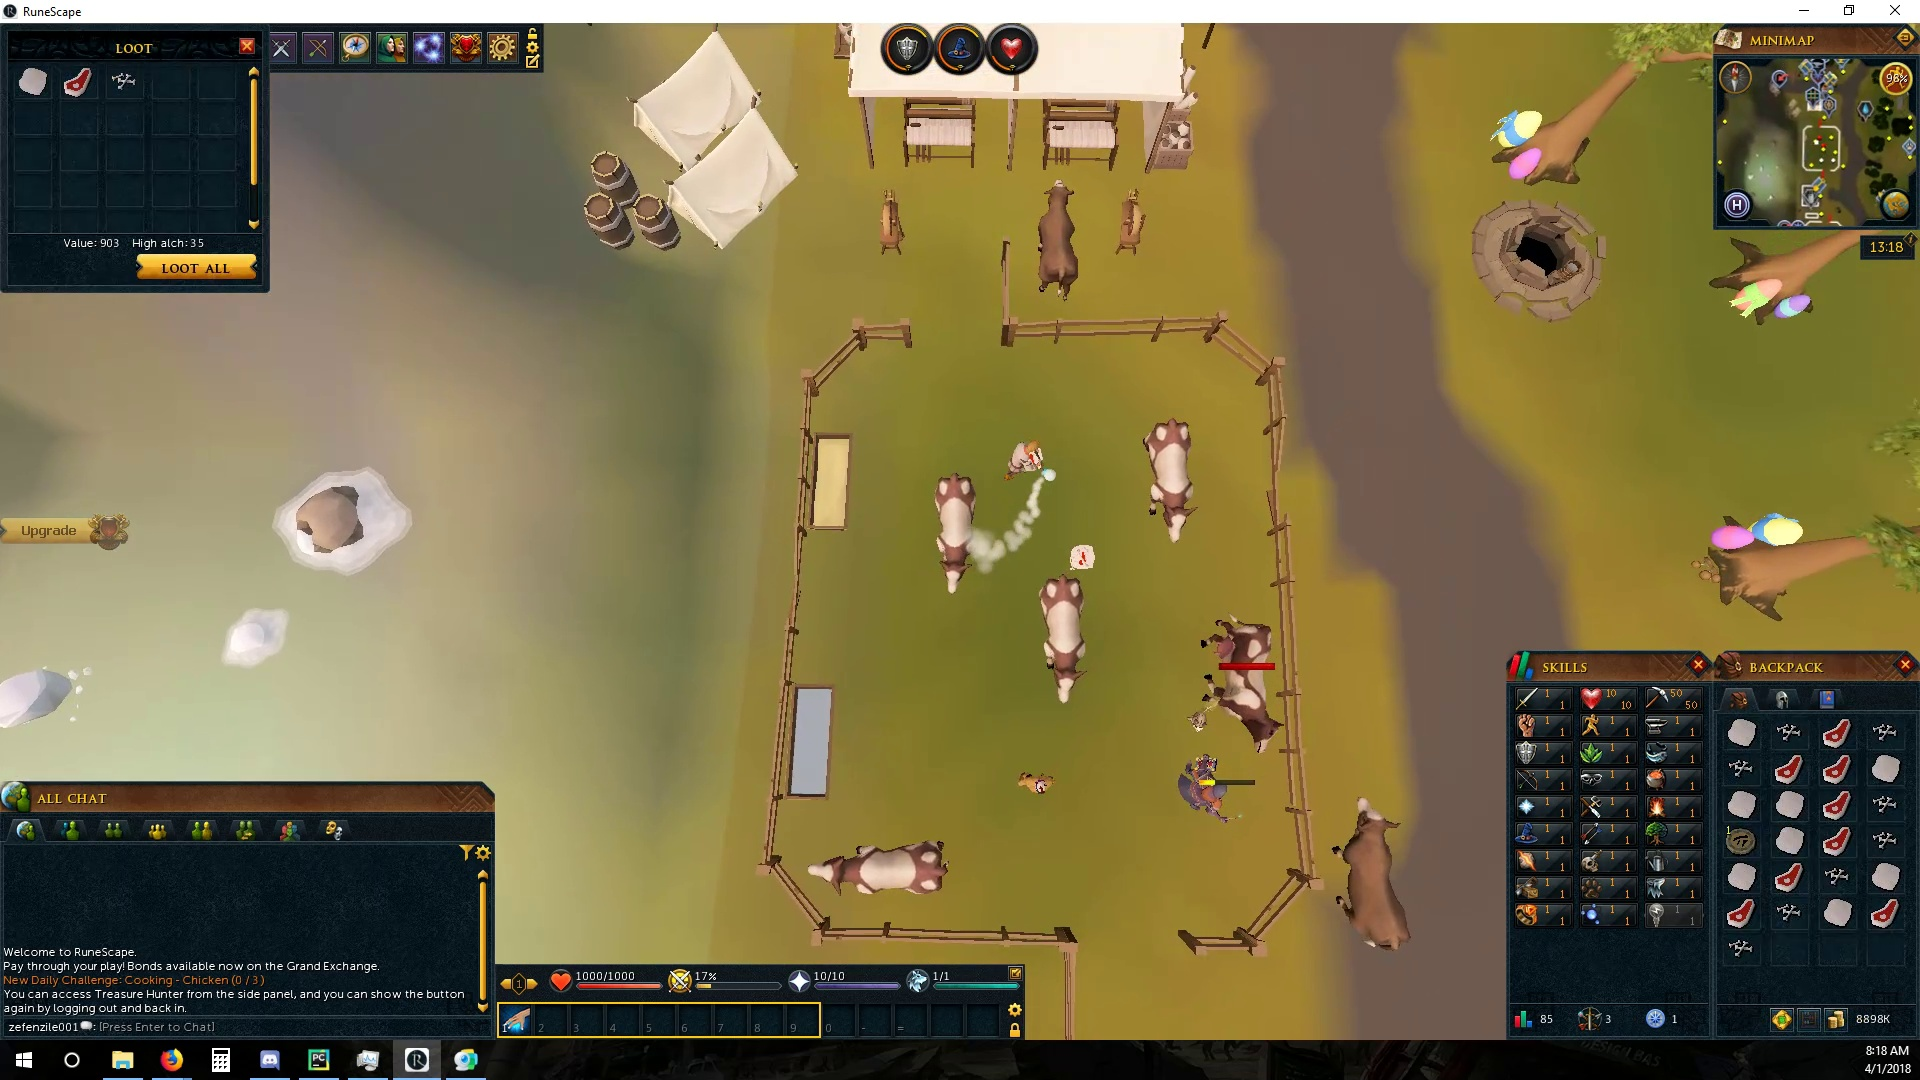cow: (1327, 796, 1416, 953), (1197, 612, 1282, 758), (803, 837, 953, 898), (1029, 175, 1091, 305), (1137, 417, 1197, 549), (1036, 574, 1089, 705), (934, 473, 981, 595)
cow_drop: (1065, 545, 1098, 574)
